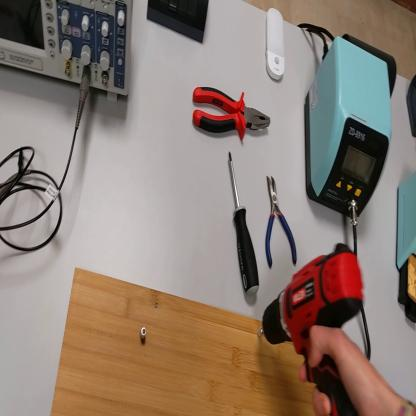electric screwdriver: (261, 243, 366, 416)
hand: (299, 321, 402, 415)
oscilloscope: (2, 2, 135, 105)
oscilloscope probe tip: (2, 169, 33, 198)
pliers: (186, 84, 277, 140), (265, 173, 299, 267)
screwdriver-: (229, 150, 260, 300)
socket: (337, 26, 396, 100), (408, 72, 416, 138)
welder base: (396, 173, 416, 325)
welder station: (306, 37, 397, 222)
working area: (50, 270, 313, 416)
